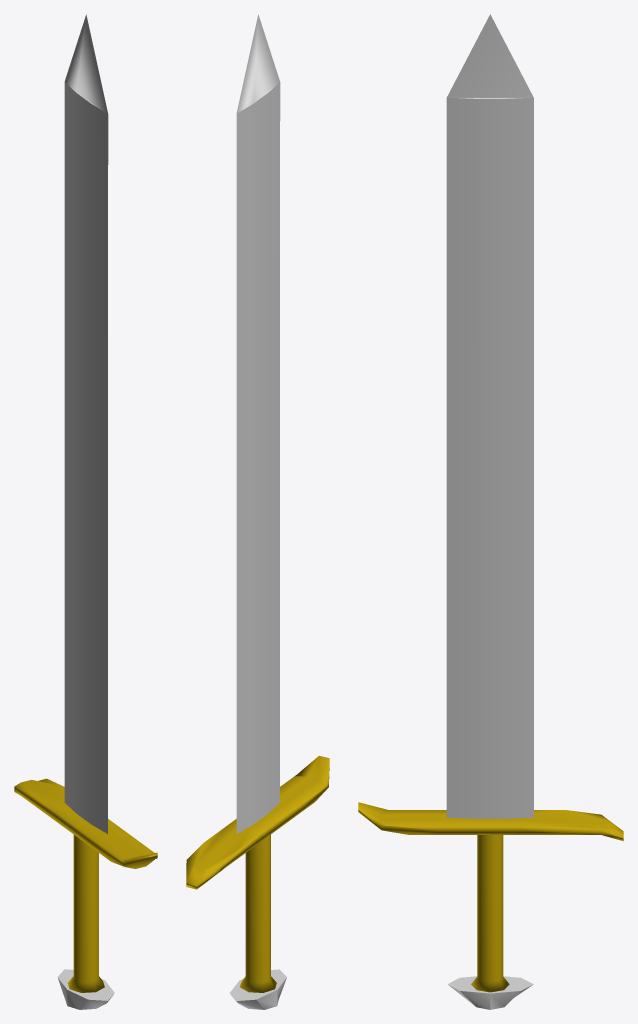
The model's file is Sword.glb.
3 renders of one model, left to right at view 1: azimuth 30°, elevation 25°; view 2: azimuth 150°, elevation 25°; view 3: azimuth 270°, elevation 25°, orthographic.
Parts seen in each view (by area): view 1: Blade, Handle; view 2: Blade, Handle; view 3: Blade, Handle.
Boxes of the visible parts, x1=… form: Blade: x1=57, y1=14, x2=114, y2=1009; Handle: x1=14, y1=778, x2=157, y2=992; Blade: x1=229, y1=14, x2=286, y2=1009; Handle: x1=186, y1=755, x2=329, y2=992; Blade: x1=446, y1=14, x2=533, y2=1009; Handle: x1=358, y1=802, x2=623, y2=992.
Bounding box in the file's own units: 0.7538 × 18.84 × 4.58.
